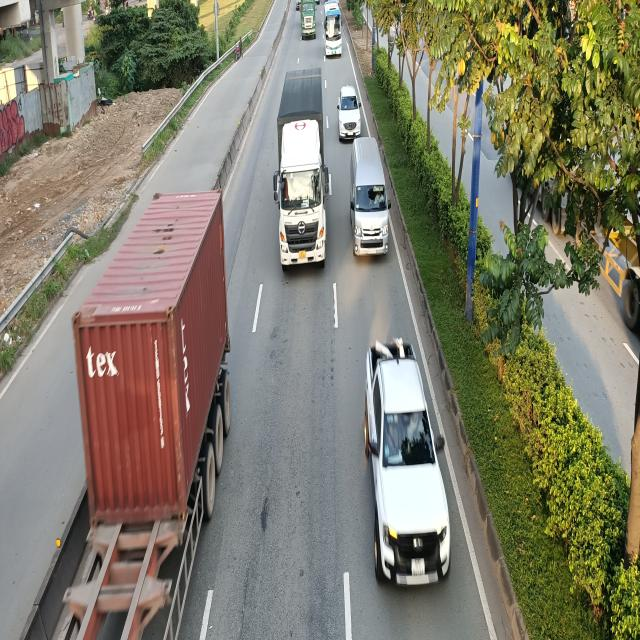car: (366, 342, 456, 588), (337, 86, 363, 141)
coach: (322, 2, 343, 59)
container: (61, 192, 237, 638), (300, 0, 315, 41)
truck: (272, 60, 328, 267)
van: (348, 133, 391, 257)
